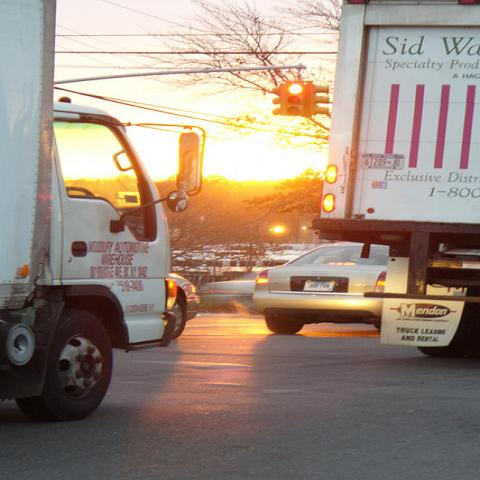car: (251, 241, 388, 335), (112, 278, 188, 353), (196, 271, 256, 307), (167, 273, 199, 321)
truck: (3, 2, 168, 416), (313, 2, 479, 354)
